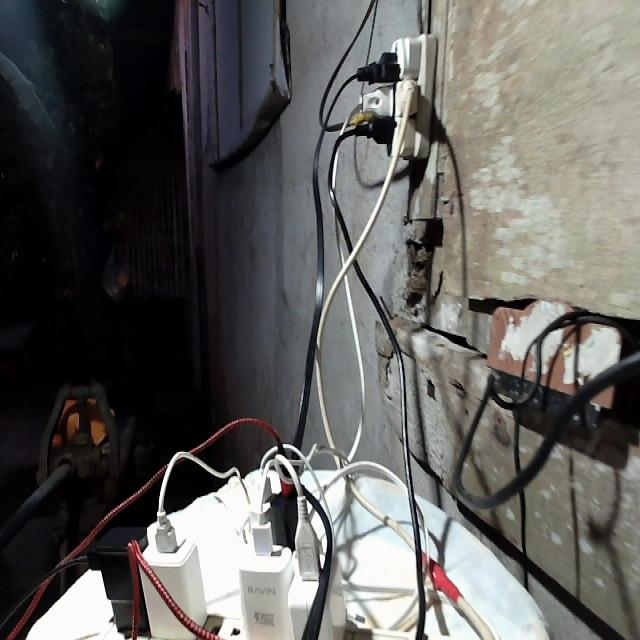-: (346, 33, 439, 159)
